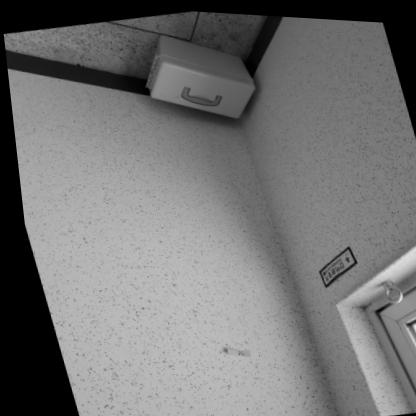DDL: (131, 16, 263, 131)
